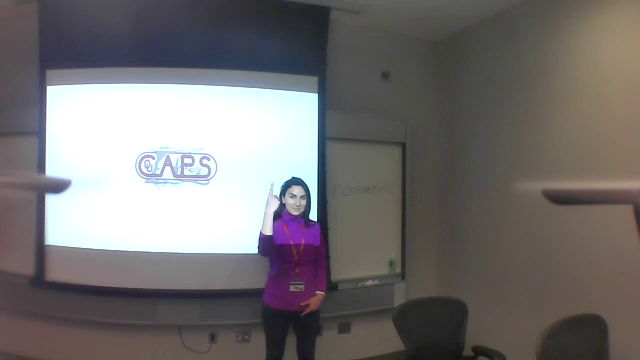up: (263, 181, 282, 213)
